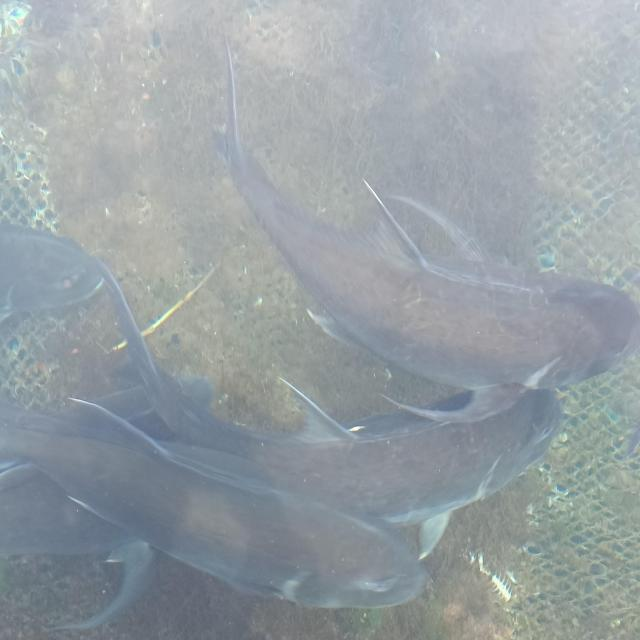ikan: (1, 221, 567, 630), (211, 28, 639, 400)
